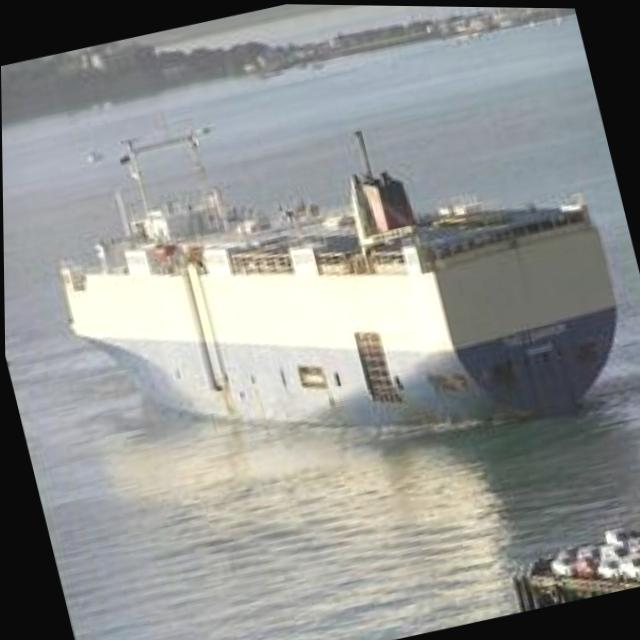ship2: (56, 124, 618, 445)
